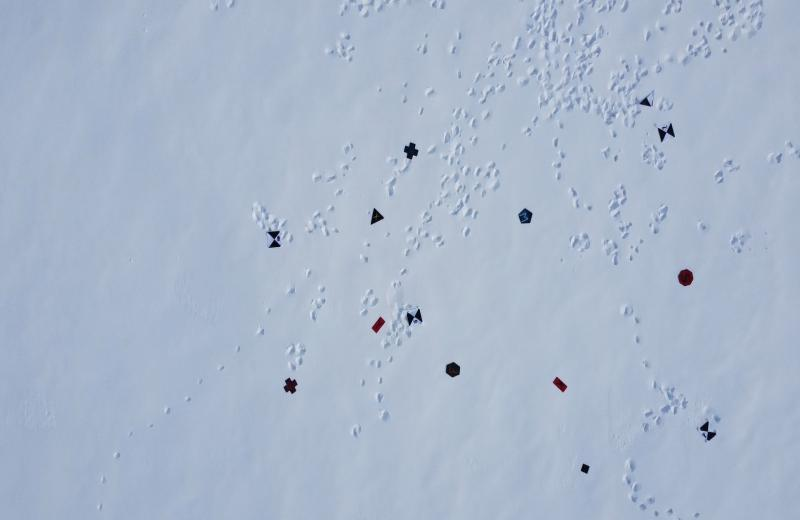Cross: (282, 377, 300, 396), (403, 142, 419, 162)
Hexagon: (444, 362, 462, 380)
Octagon: (676, 268, 694, 289)
Pentagon: (517, 207, 533, 225)
Rectangle: (551, 375, 569, 396), (370, 314, 388, 335)
Square: (579, 462, 591, 476)
Triangle: (368, 208, 386, 226)
